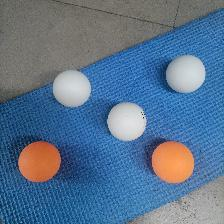WhiteBall: (106, 102, 146, 141), (164, 54, 205, 92), (53, 70, 90, 106)
YellowBall: (151, 141, 193, 183), (17, 141, 60, 181)
